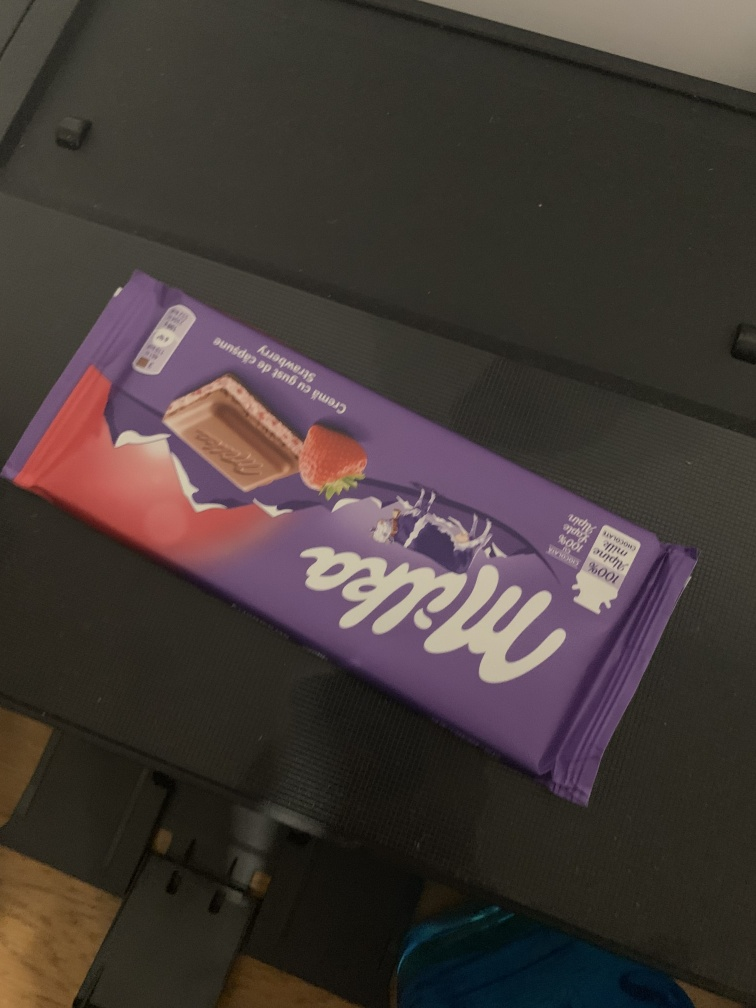milka: (7, 254, 706, 829)
